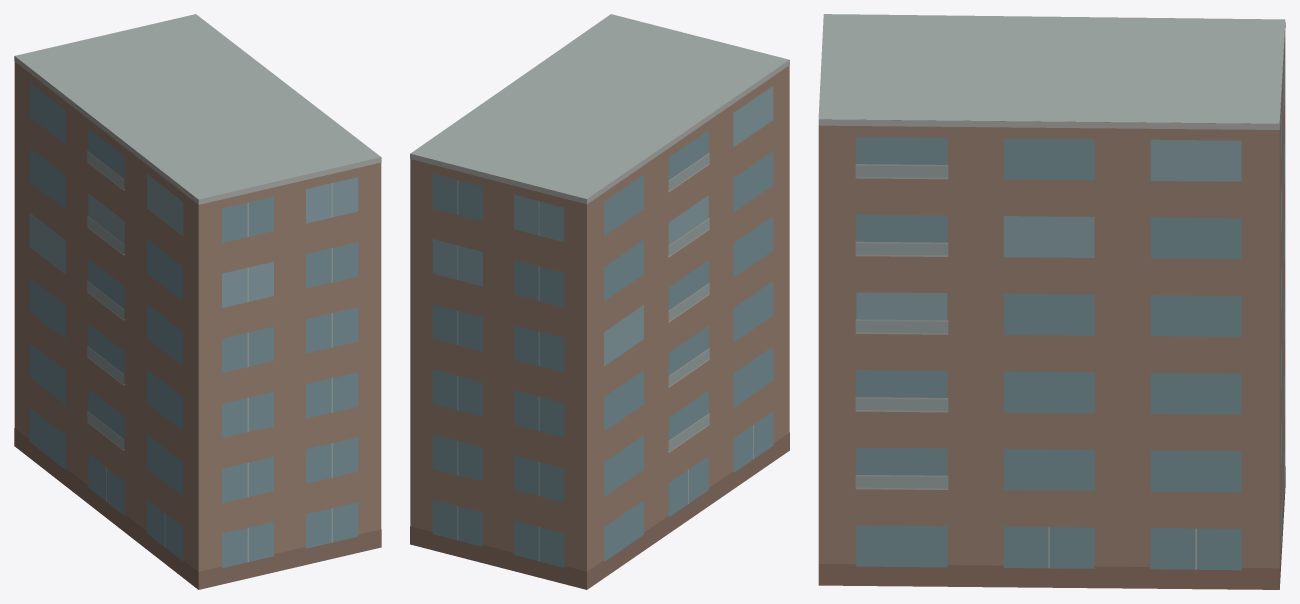
Rendered from survey-upis-32743868.glb.
3 views of the same model, side by side, from view 1: azimuth 30°, elevation 25°; view 2: azimuth 150°, elevation 25°; view 3: azimuth 270°, elevation 25° (orthographic). The views are drawn at different scales.
Parts seen in each view (by area): view 1: survey-upis-32743868.tmp; view 2: survey-upis-32743868.tmp; view 3: survey-upis-32743868.tmp.
Boxes of the visible parts, x1,y1,x2,y2 form: survey-upis-32743868.tmp: (14,14,381,589); survey-upis-32743868.tmp: (410,14,789,589); survey-upis-32743868.tmp: (818,14,1285,589).
Size of the model in its own units: 9.1 by 18 by 16.35.
